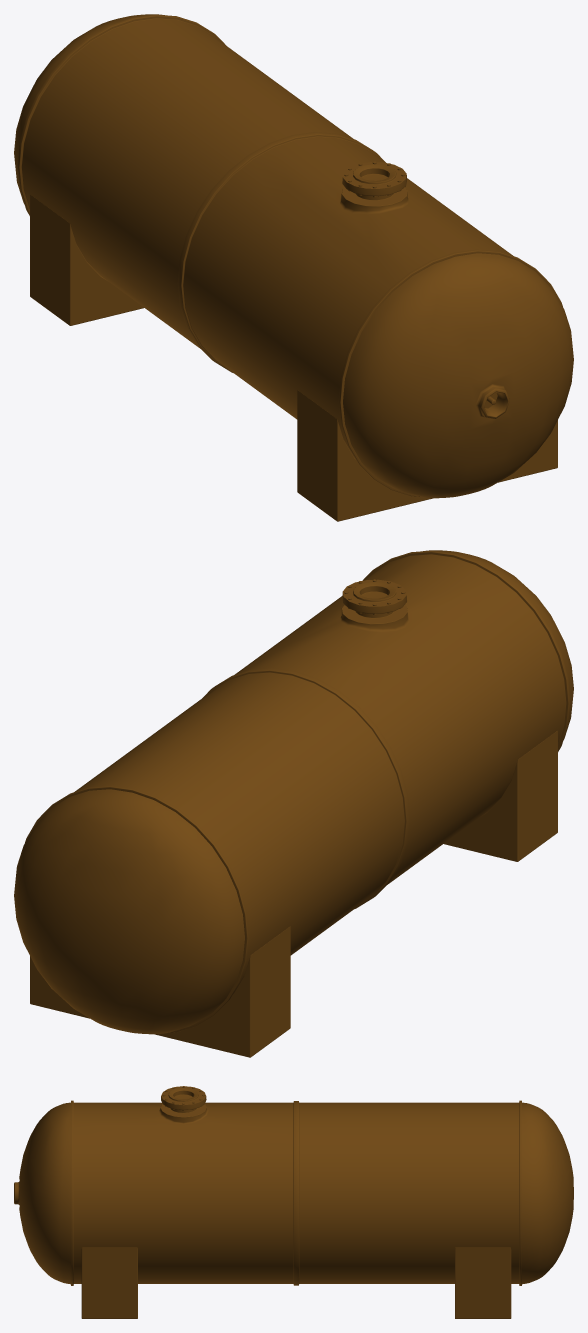
File: lpg_explosive_tank.fbx
3 views of the same model, one above another, from view 1: azimuth 30°, elevation 25°; view 2: azimuth 150°, elevation 25°; view 3: azimuth 270°, elevation 25° (orthographic). The views are drawn at different scales.
Visible parts, largest first — view 1: lpg_tank_body, lpg_tnk_feet; view 2: lpg_tank_body, lpg_tnk_feet; view 3: lpg_tank_body, lpg_tnk_feet.
Boxes of the visible parts, left/top/right/bottom form: lpg_tank_body: left=14, top=14, right=573, bottom=498; lpg_tnk_feet: left=30, top=195, right=557, bottom=521; lpg_tank_body: left=14, top=550, right=573, bottom=1034; lpg_tnk_feet: left=30, top=731, right=557, bottom=1057; lpg_tank_body: left=14, top=1086, right=573, bottom=1285; lpg_tnk_feet: left=81, top=1247, right=511, bottom=1318.
Bounding box in the file's own units: 269 × 300 × 812.
